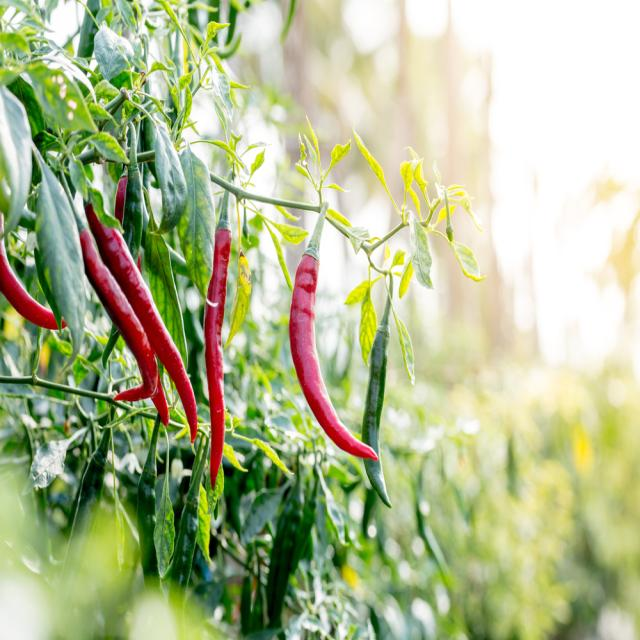Ripe: (85, 204, 198, 441), (289, 255, 378, 460), (80, 229, 159, 400), (204, 191, 231, 486), (0, 212, 58, 329)
Unripe: (361, 298, 391, 507), (168, 490, 196, 608), (122, 122, 144, 261), (137, 474, 156, 575), (78, 9, 98, 57)
